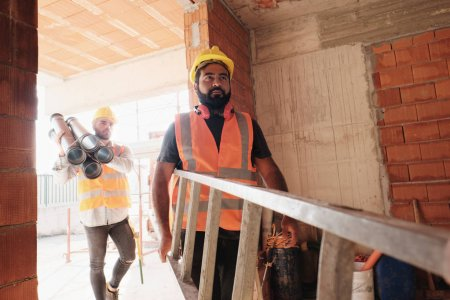casco: (189, 45, 235, 86), (91, 106, 118, 126)
